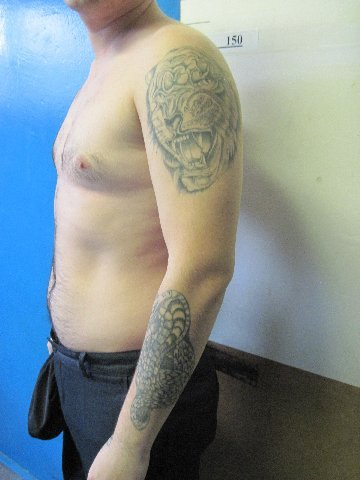tatu7_zmeya: (134, 288, 196, 434)
